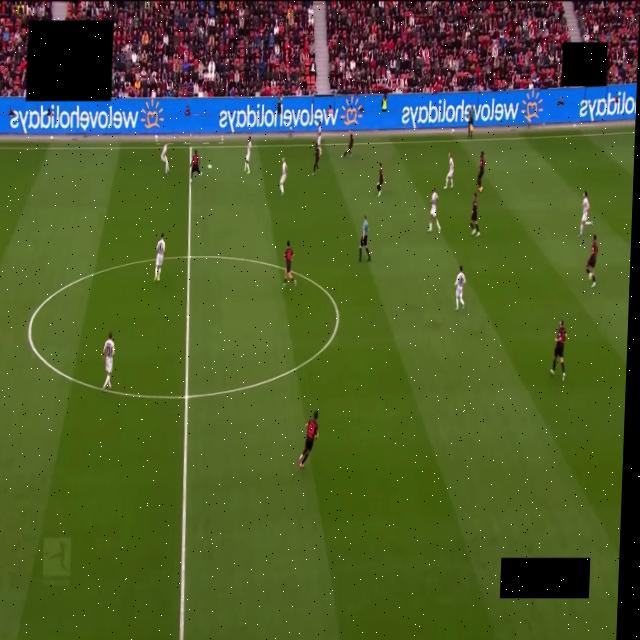ball: (207, 165, 211, 169)
player: (298, 411, 317, 468), (550, 320, 566, 381), (102, 332, 116, 390), (282, 241, 296, 287), (578, 191, 592, 237), (585, 235, 597, 287), (427, 189, 440, 232), (454, 266, 465, 311), (154, 234, 164, 281), (476, 152, 485, 192), (443, 153, 453, 189), (189, 151, 201, 181), (470, 194, 478, 237), (342, 132, 353, 157), (376, 163, 384, 197), (244, 136, 251, 174), (279, 158, 286, 195), (160, 144, 168, 175), (312, 144, 320, 175), (316, 123, 321, 157)
referee: (358, 216, 370, 262)
